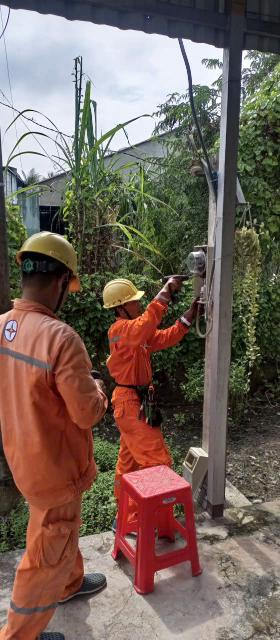gloves: (150, 276, 190, 306), (180, 301, 221, 328)
helmet: (7, 225, 90, 297), (99, 262, 148, 321)
shoes: (58, 562, 115, 604)
